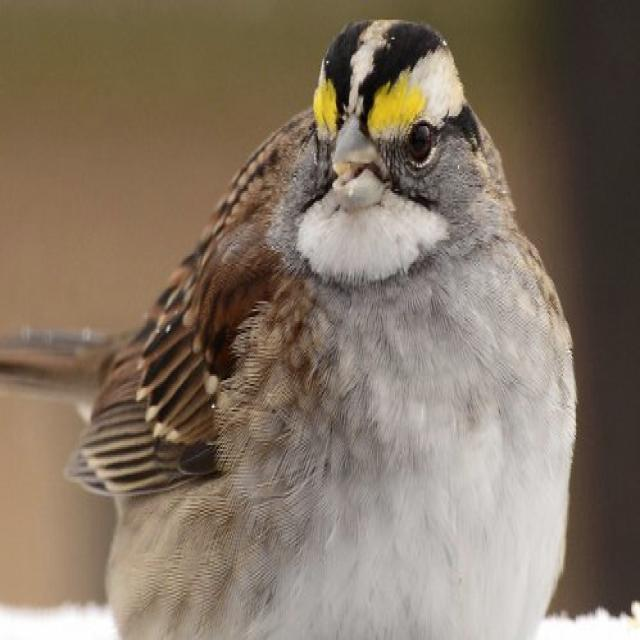sparrow: (0, 20, 576, 638)
